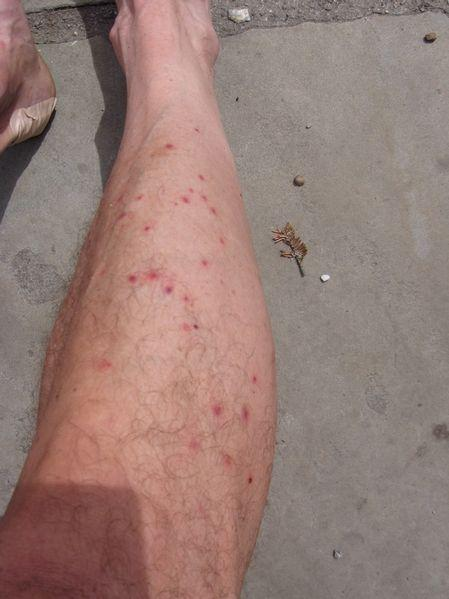Gnat-bites: (135, 260, 164, 292), (208, 229, 238, 255), (93, 352, 119, 379), (217, 446, 242, 474), (209, 395, 230, 428), (156, 136, 183, 161), (185, 422, 200, 466), (133, 217, 158, 240), (172, 187, 194, 212), (245, 367, 265, 394), (123, 263, 142, 291), (230, 401, 249, 429), (196, 250, 217, 273), (127, 189, 153, 207), (176, 285, 195, 309), (161, 279, 178, 305), (113, 203, 129, 227), (187, 125, 207, 144), (194, 188, 211, 210), (113, 185, 128, 208), (179, 312, 190, 342), (190, 170, 208, 187), (206, 203, 221, 222), (187, 319, 203, 336), (242, 469, 254, 483)
